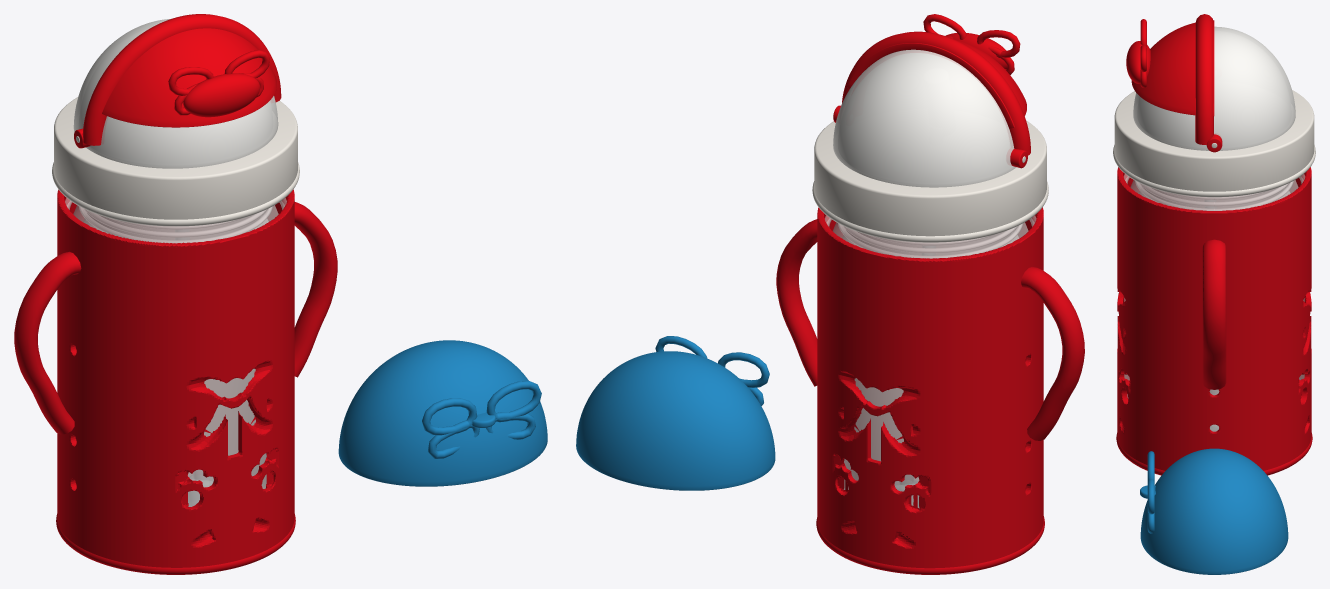
File: product-31-sippy-cup.glb
3 views of the same model, side by side, from view 1: azimuth 30°, elevation 25°; view 2: azimuth 150°, elevation 25°; view 3: azimuth 270°, elevation 25° (orthographic). The views are drawn at different scales.
Parts seen in each view (by area): view 1: coral red patterned protective sleeve, detached cyan blue hollow accessory shell, white unbranded lid collar, translucent milky protective dome, coral red upper mouth cover visor, clear unbranded bottle body, left integrated curved handle, coral red hinged protective dome arch, right integrated curved handle, coral solid forward flip mouth cover, white collar lower rolled edge, rounded sleeve base roll (+4 smaller); view 2: coral red patterned protective sleeve, detached cyan blue hollow accessory shell, translucent milky protective dome, white unbranded lid collar, clear unbranded bottle body, left integrated curved handle, right integrated curved handle, coral red hinged protective dome arch, coral red upper mouth cover visor, white collar lower rolled edge, rounded sleeve base roll, clear neck thread 02 (+2 smaller); view 3: coral red patterned protective sleeve, detached cyan blue hollow accessory shell, translucent milky protective dome, white unbranded lid collar, coral red upper mouth cover visor, right integrated curved handle, coral red hinged protective dome arch, clear unbranded bottle body, white collar lower rolled edge, clear neck thread 02, clear neck thread 01, coral solid forward flip mouth cover (+2 smaller).
Part boxes in pixels (<box>): coral red patterned protective sleeve: <box>57,189,294,573</box>; detached cyan blue hollow accessory shell: <box>338,340,547,486</box>; white unbranded lid collar: <box>54,97,297,219</box>; translucent milky protective dome: <box>73,18,278,168</box>; coral red upper mouth cover visor: <box>102,28,276,127</box>; clear unbranded bottle body: <box>73,205,278,506</box>; left integrated curved handle: <box>14,251,81,434</box>; coral red hinged protective dome arch: <box>82,14,281,145</box>; right integrated curved handle: <box>294,202,337,377</box>; coral solid forward flip mouth cover: <box>183,73,260,117</box>; white collar lower rolled edge: <box>52,162,299,226</box>; rounded sleeve base roll: <box>56,514,295,574</box>; coral red patterned protective sleeve: <box>817,207,1043,572</box>; detached cyan blue hollow accessory shell: <box>576,351,775,490</box>; translucent milky protective dome: <box>833,49,1016,187</box>; white unbranded lid collar: <box>814,120,1046,236</box>; clear unbranded bottle body: <box>833,222,1028,508</box>; left integrated curved handle: <box>1021,267,1084,440</box>; right integrated curved handle: <box>776,219,817,386</box>; coral red hinged protective dome arch: <box>842,31,1030,155</box>; coral red upper mouth cover visor: <box>847,39,1026,128</box>; white collar lower rolled edge: <box>812,181,1048,242</box>; rounded sleeve base roll: <box>816,516,1044,574</box>; clear neck thread 02: <box>843,225,1018,253</box>; coral red patterned protective sleeve: <box>1117,167,1311,470</box>; detached cyan blue hollow accessory shell: <box>1140,448,1288,574</box>; translucent milky protective dome: <box>1133,26,1295,150</box>; white unbranded lid collar: <box>1114,90,1314,191</box>; coral red upper mouth cover visor: <box>1131,20,1214,116</box>; right integrated curved handle: <box>1202,239,1226,389</box>; coral red hinged protective dome arch: <box>1195,14,1213,144</box>; clear unbranded bottle body: <box>1124,180,1304,431</box>; white collar lower rolled edge: <box>1113,145,1315,197</box>; clear neck thread 02: <box>1139,183,1289,206</box>; clear neck thread 01: <box>1135,181,1293,210</box>; coral solid forward flip mouth cover: <box>1126,41,1150,83</box>.
Bounding box in the file's own units: 0.1773 × 0.1677 × 0.0731.
